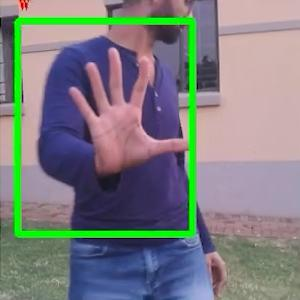follow_hand: (68, 42, 191, 183)
